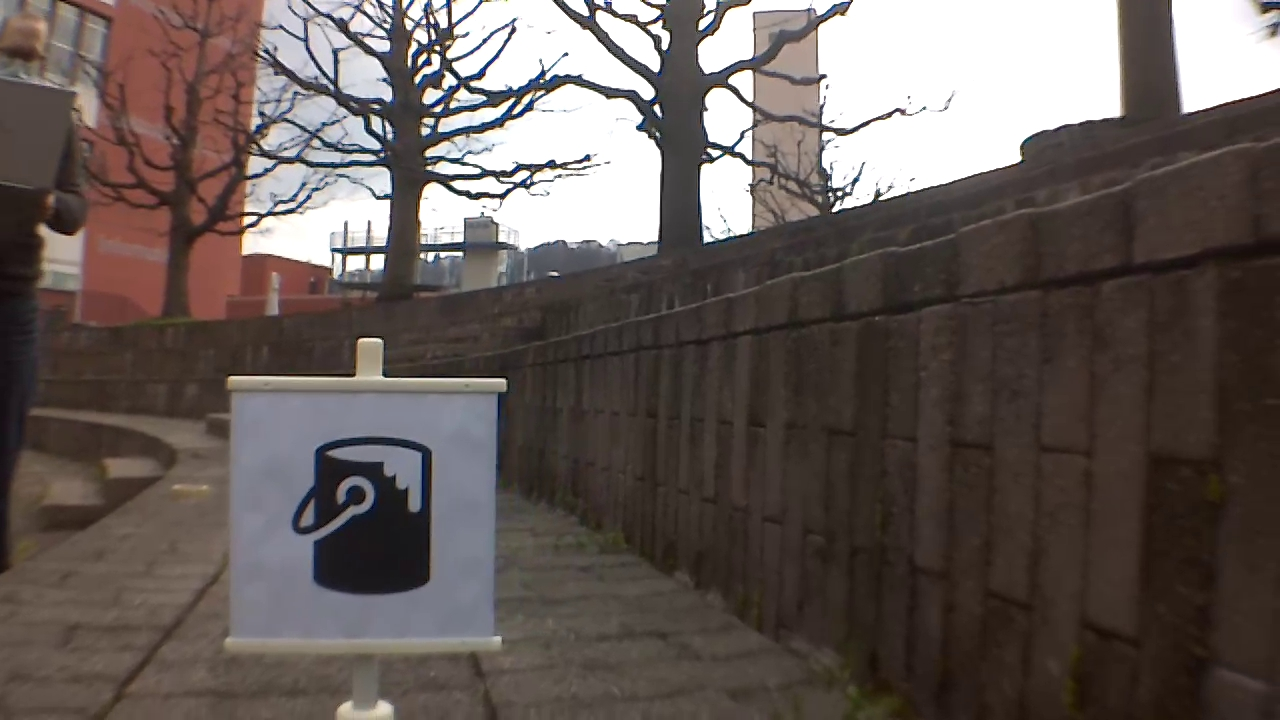bucket: (280, 428, 437, 601)
